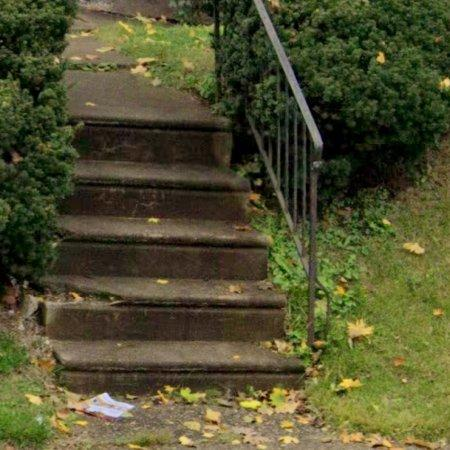stairs: (45, 71, 304, 392)
